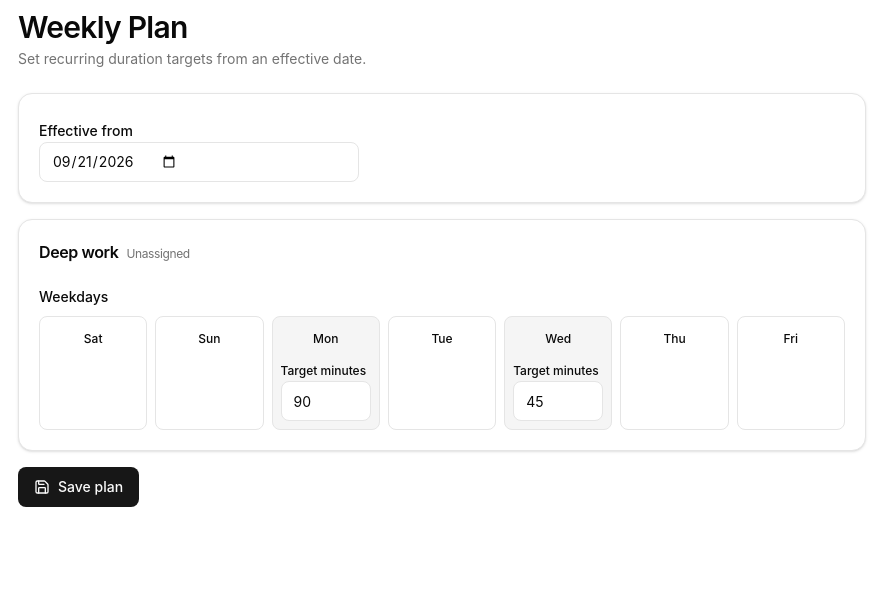
Test: WeeklyPlan › validates duration edits before mutation
Replace the text in the number field named "Mon Target minutes" with "1441" at (326, 401), box [281,381,371,421]
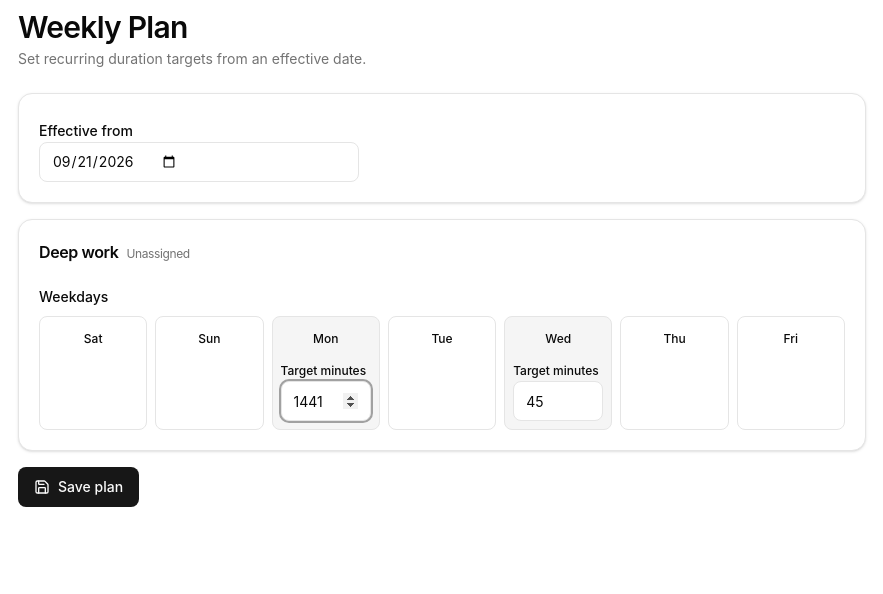
Click the button "Save plan" at (79, 487), box [18,467,139,507]
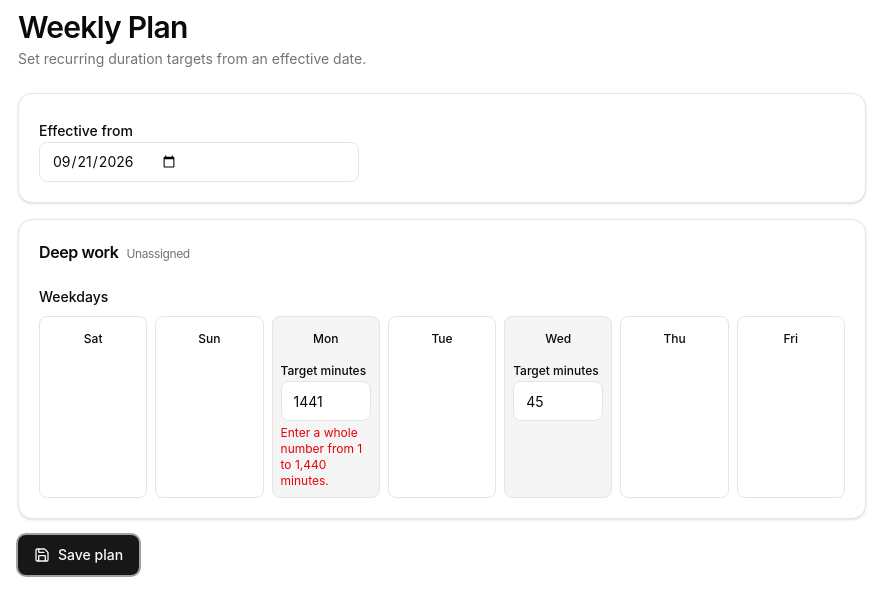
Check: the text "Enter a whole number from 1 to 1,440 minutes." is shown, box [281,425,371,489]
